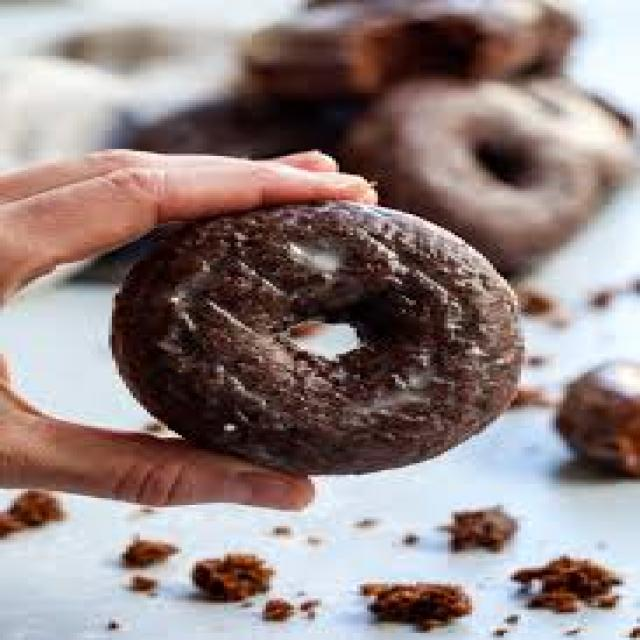Donut: (122, 188, 538, 480), (332, 51, 640, 238)
